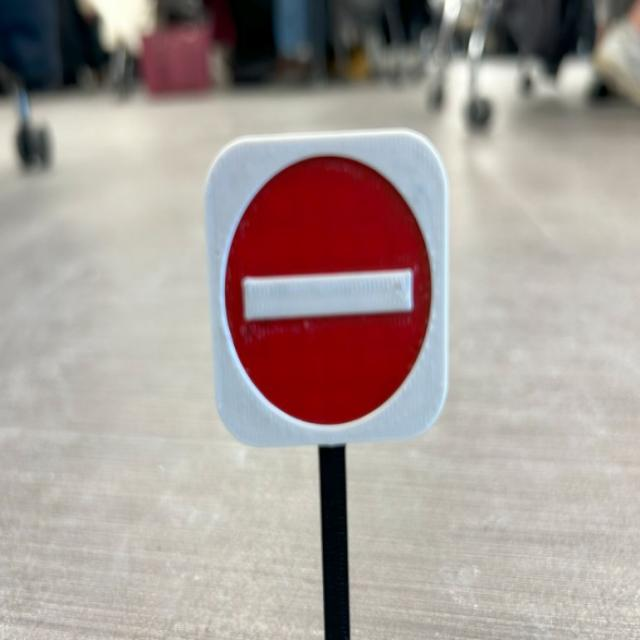sign_noentry: (168, 102, 476, 473)
